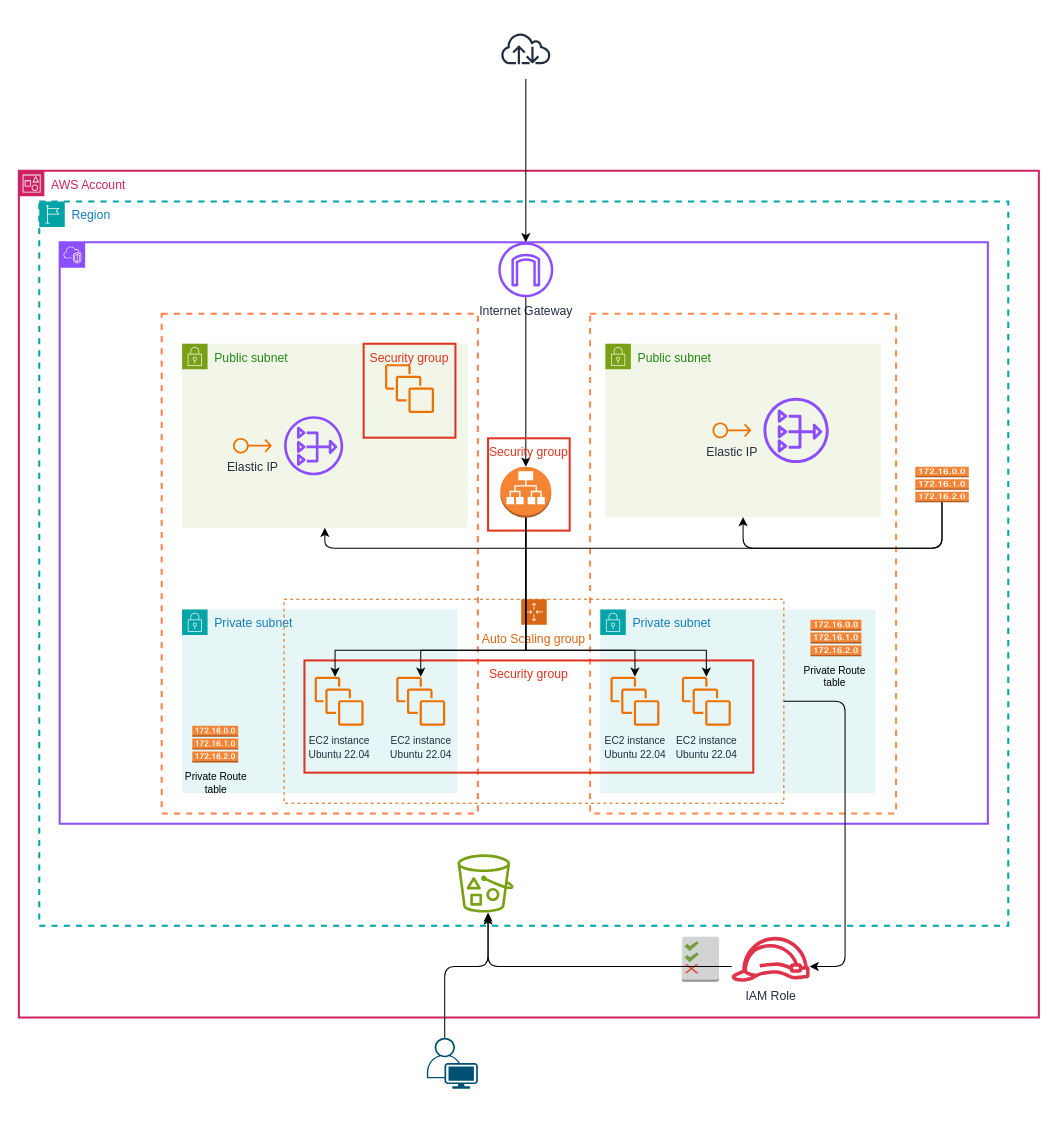
This 1057x1128 diagram has some shape labels left out. Here are the shapes that lost their labels. From the top down, the box of each, then its label:
(494, 17, 556, 79): Internet
(385, 364, 434, 413): Bastion Host
(284, 416, 343, 475): NAT Gateway 1
(763, 397, 828, 463): NAT Gateway 2
(914, 466, 969, 502): Public Route table
(58, 241, 988, 824): VPC
(160, 312, 478, 814): Availability Zone 1
(589, 312, 897, 814): Availability Zone 2
(681, 936, 719, 982): Permissions
(426, 1037, 477, 1088): Developper
